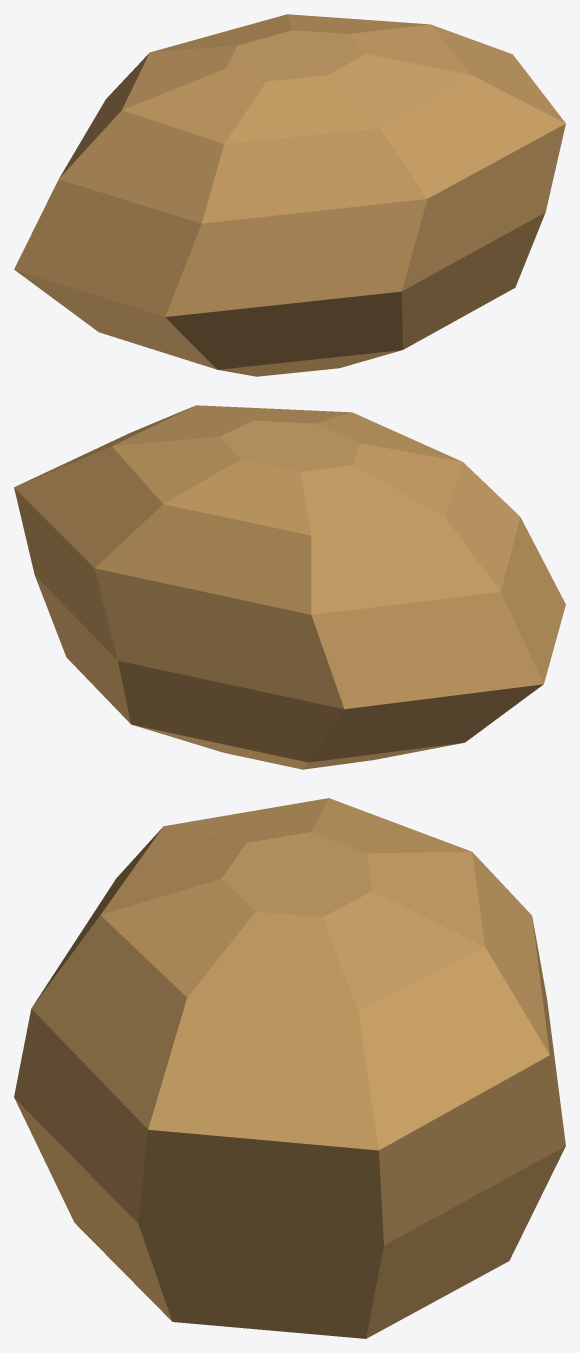
Rendered from FD_Potato_01.glb.
The picture shows the model from 3 angles, top to bottom: view 1: azimuth 30°, elevation 25°; view 2: azimuth 150°, elevation 25°; view 3: azimuth 270°, elevation 25°; orthographic projection. The views are drawn at different scales.
Visible parts, largest first — view 1: FD_Potato_01; view 2: FD_Potato_01; view 3: FD_Potato_01.
Boxes of the visible parts, x1,y1,x2,y2 form: FD_Potato_01: (14,14,565,376); FD_Potato_01: (14,405,565,769); FD_Potato_01: (14,798,565,1338).
Size of the model in its own units: 0.0935 by 0.05 by 0.0636.
Materials: 1 (1 with a texture image).
